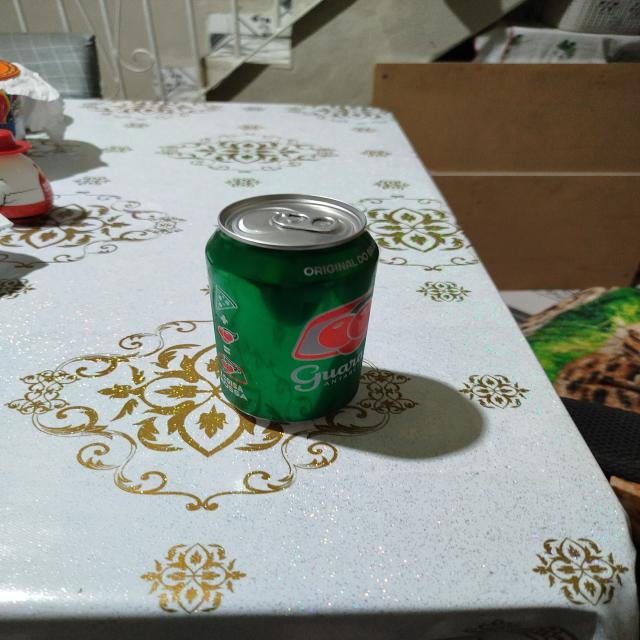Guarana: (201, 192, 383, 422)
